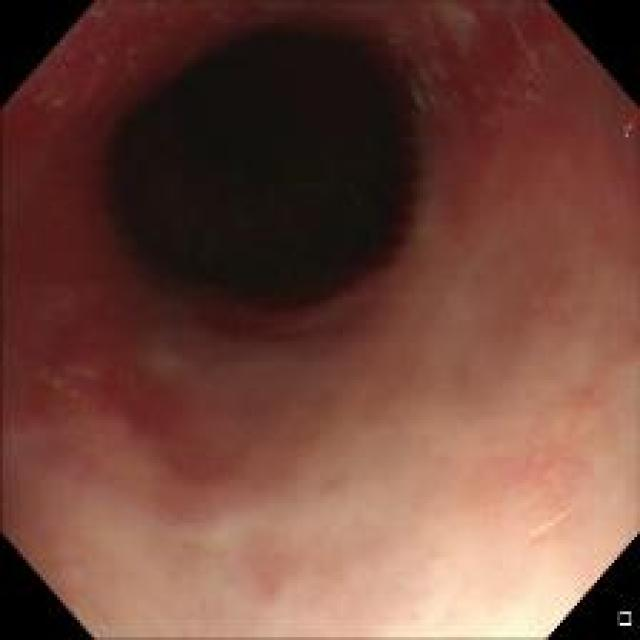blur: (71, 11, 565, 565)
color misalignment: (622, 106, 638, 152)
contrast: (89, 4, 436, 319)
saturation: (394, 576, 580, 636)
